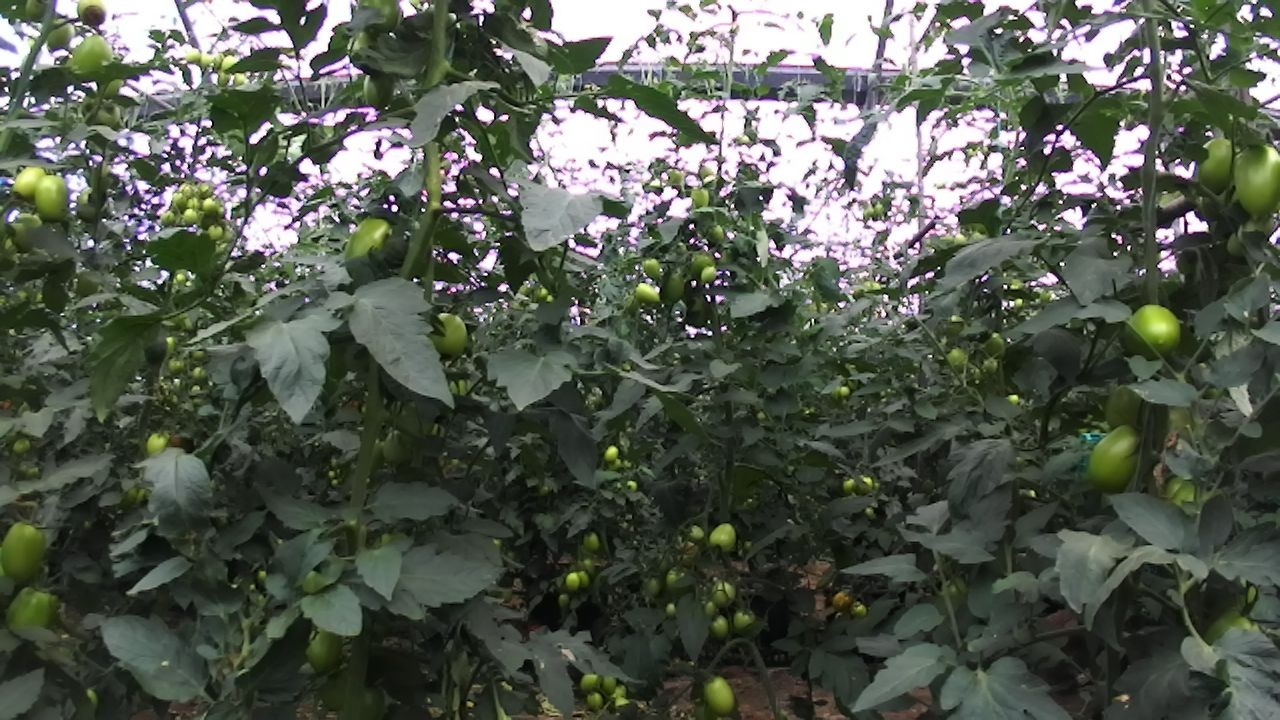tomato: (1205, 136, 1280, 225), (1079, 419, 1154, 499), (1122, 295, 1192, 367), (337, 207, 406, 280), (2, 579, 69, 648), (0, 506, 59, 584), (1189, 128, 1244, 206), (423, 305, 482, 367), (297, 619, 354, 683), (61, 28, 118, 87), (30, 170, 77, 229), (696, 670, 746, 720), (936, 335, 979, 386), (9, 157, 51, 205), (42, 16, 82, 59), (72, 0, 111, 35), (706, 518, 739, 556), (141, 427, 173, 462), (709, 578, 739, 612), (632, 280, 664, 307), (729, 605, 758, 632), (707, 613, 734, 641), (640, 255, 665, 280), (583, 689, 607, 714), (562, 568, 585, 593), (578, 669, 600, 695), (581, 529, 602, 556), (200, 194, 222, 219), (601, 442, 623, 465), (698, 263, 719, 285), (206, 222, 226, 244), (157, 207, 176, 229), (181, 207, 201, 226), (183, 47, 201, 66)
